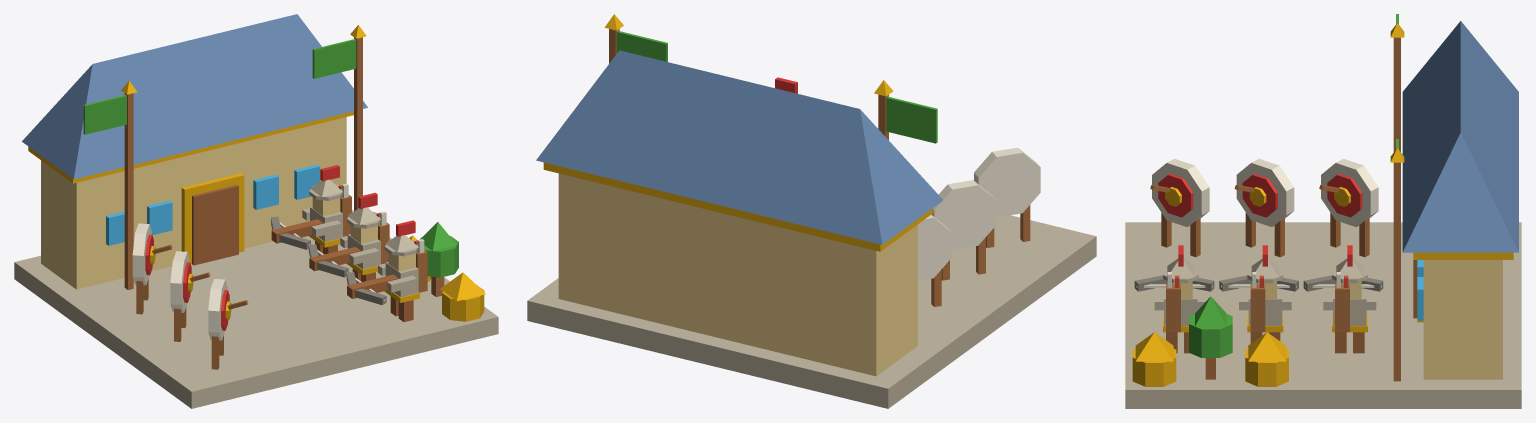
Rendered from archery_range_t3_v2.glb.
3 views of the same model, side by side, from view 1: azimuth 30°, elevation 25°; view 2: azimuth 150°, elevation 25°; view 3: azimuth 270°, elevation 25° (orthographic). The views are drawn at different scales.
Visible parts, largest first — view 1: archery_range_t3_v2; view 2: archery_range_t3_v2; view 3: archery_range_t3_v2.
Part boxes in pixels (x1=…): archery_range_t3_v2: x1=14, y1=14, x2=498, y2=408; archery_range_t3_v2: x1=527, y1=14, x2=1096, y2=408; archery_range_t3_v2: x1=1125, y1=14, x2=1521, y2=408.
Size of the model in its own units: 0.75 by 0.525 by 0.75.
1 material, 1 textured.
